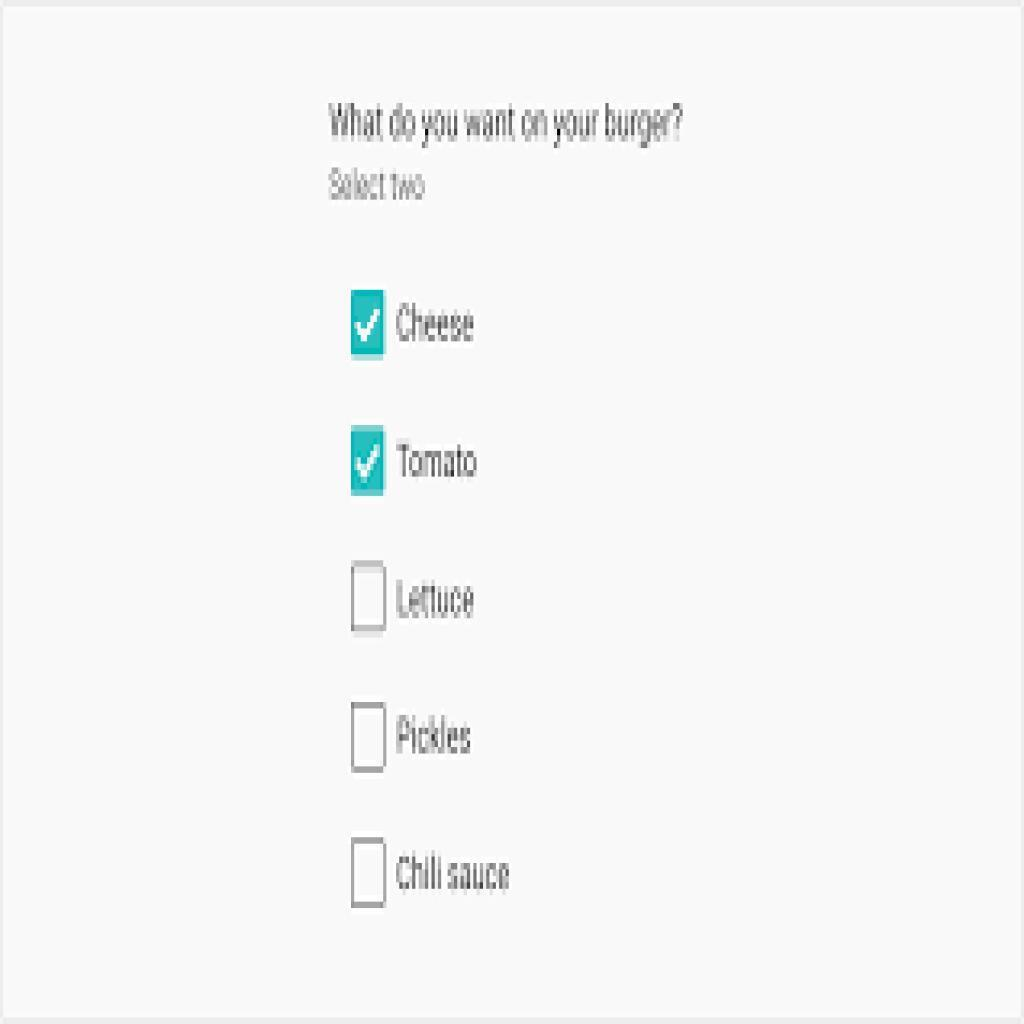checkbox: (349, 837, 391, 913), (350, 427, 391, 500), (351, 290, 390, 366), (351, 703, 391, 777), (349, 562, 390, 634)
